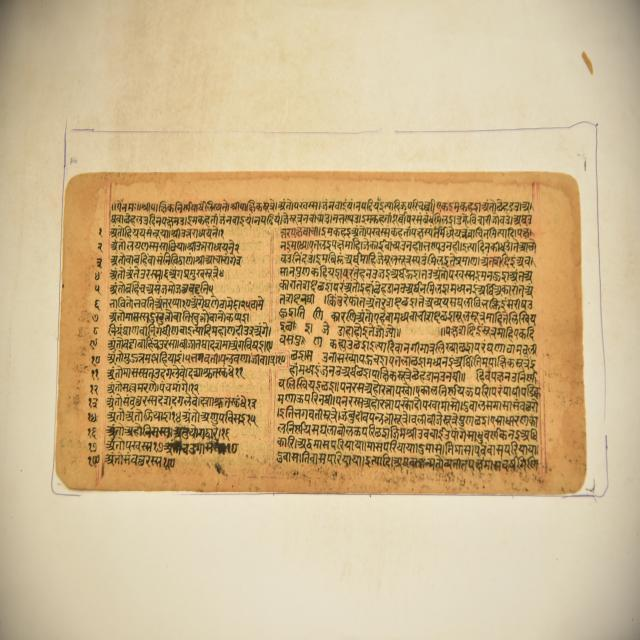text_paragraph: (58, 167, 583, 490)
